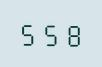eight: (61, 20, 81, 47)
five: (40, 19, 60, 47), (18, 19, 38, 46)
